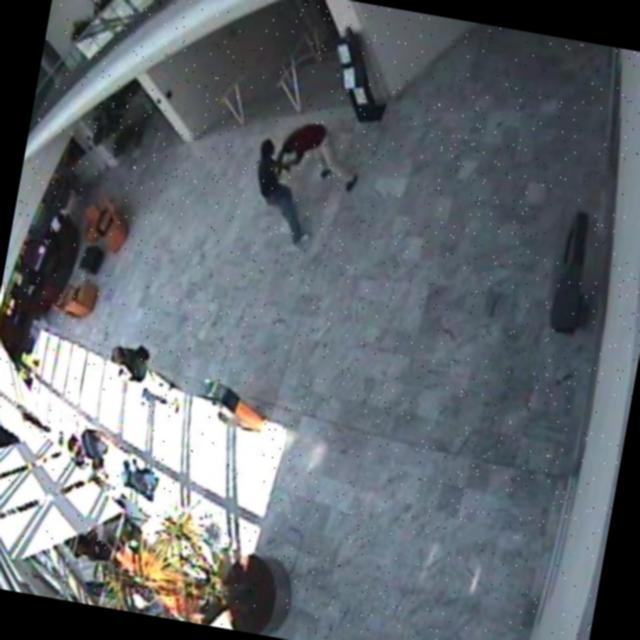person: (234, 127, 326, 254), (268, 112, 372, 206)
